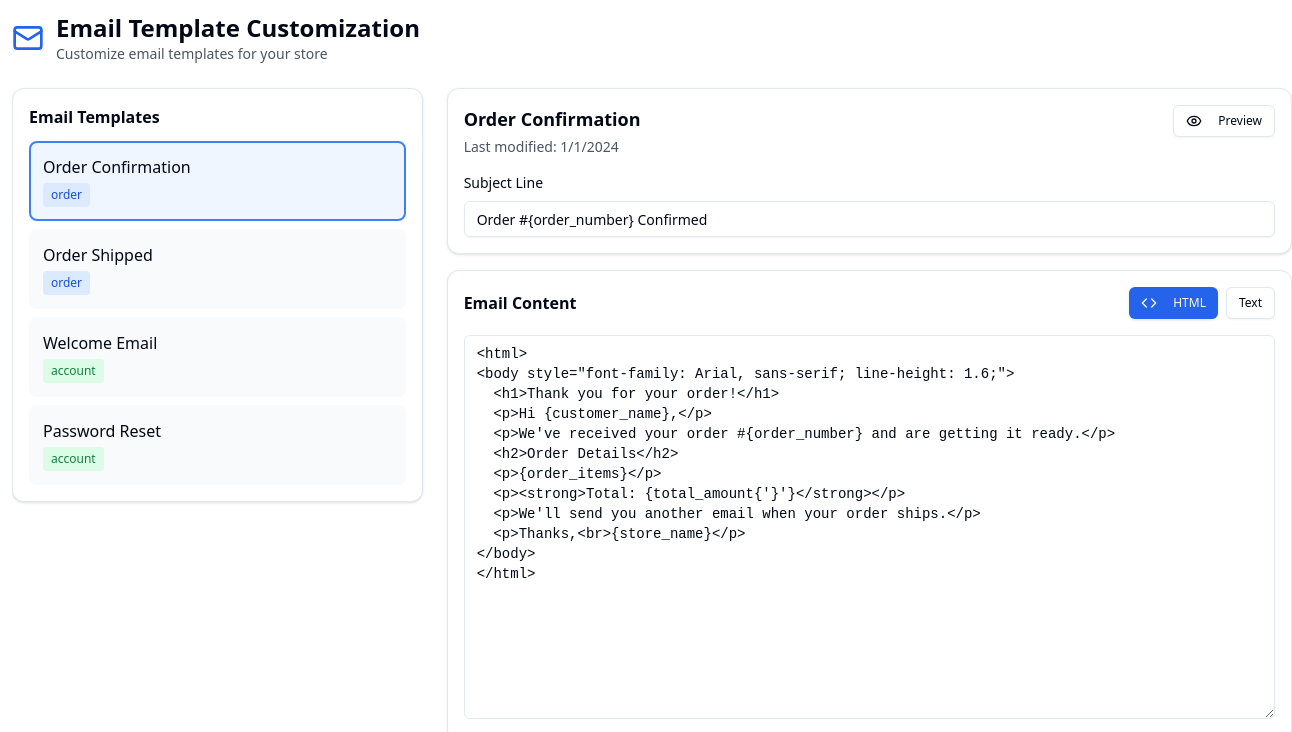
Test: EmailTemplateCustomization › allows selecting different templates
The image size is (1292, 732).
Click the button with test id "template-welcome-email" at [100, 343], box 29,317 -> 406,397
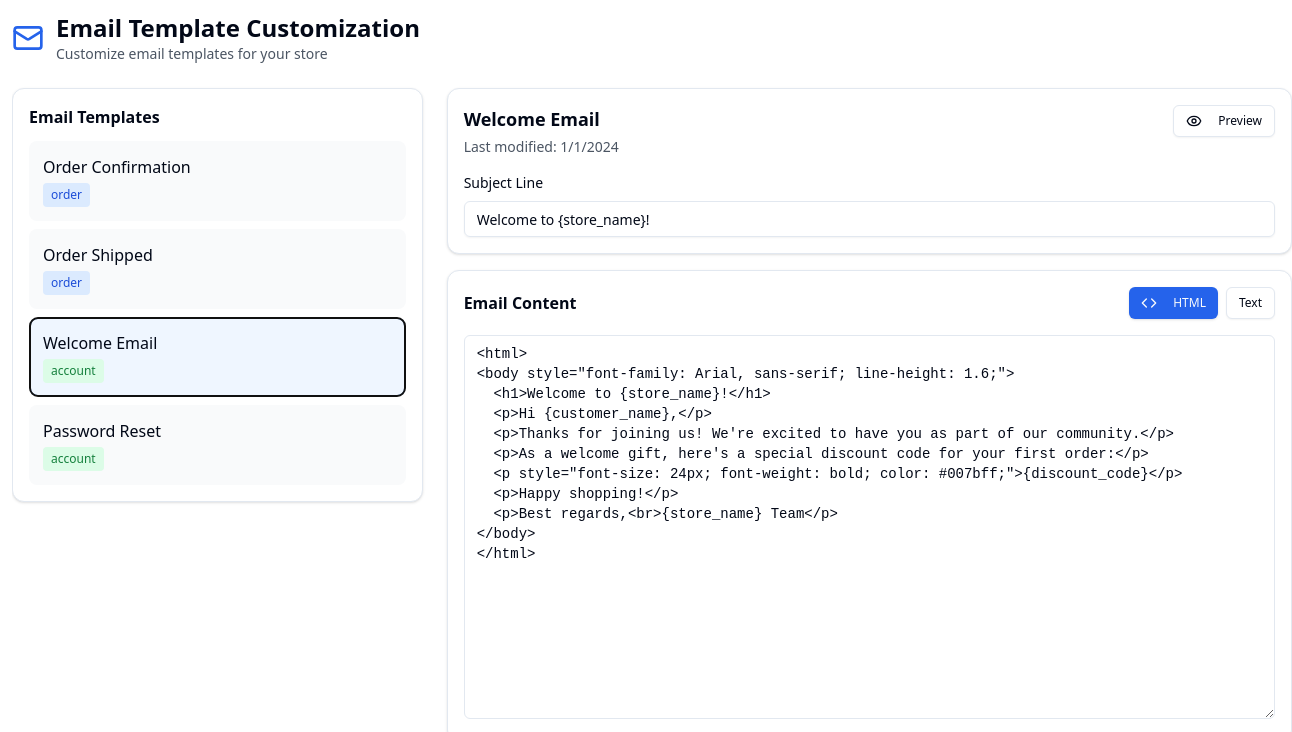
Expected: the field with test id "subject-input" holds "Welcome to {store_name}!", 464,201 -> 1275,237
